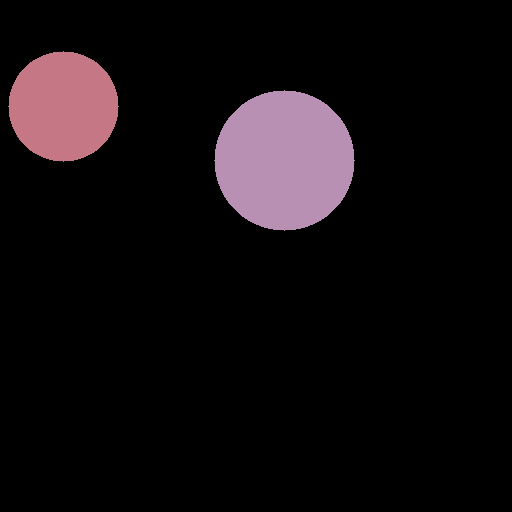circle: (214, 90, 354, 230), (8, 51, 118, 161)
